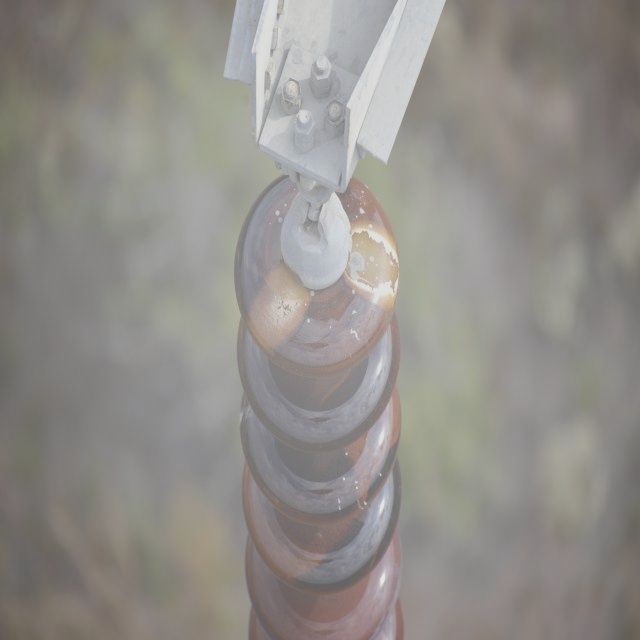insulator: (232, 171, 405, 640)
